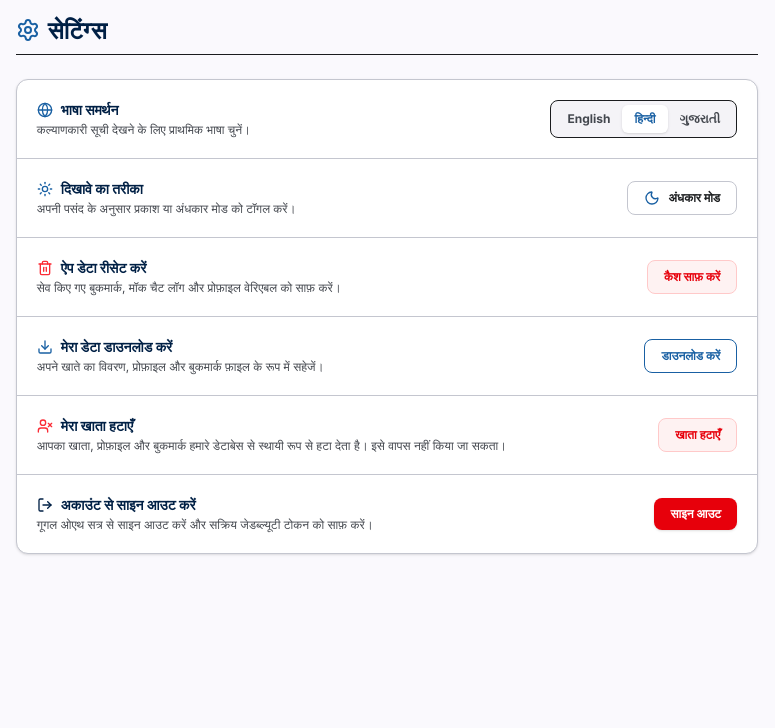
Test case: Settings: download and delete, in hi › asks for a typed confirmation before deleting, in the language
This screenshot has width=775, height=728.
Click the button "खाता हटाएँ". click: (698, 435)
box: [658,418,737,452]
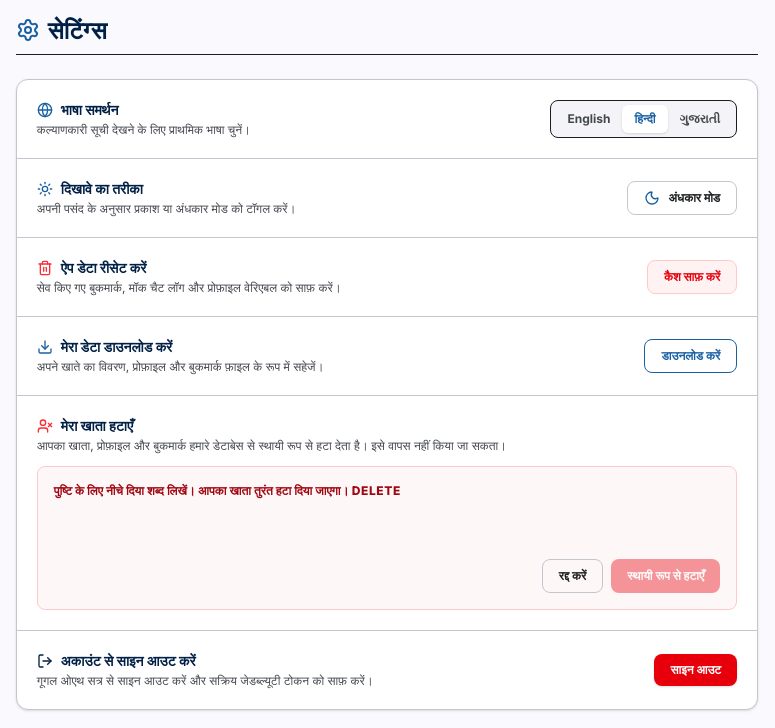
Now the button "स्थायी रूप से हटाएँ" is disabled, box [611,559,720,593]
